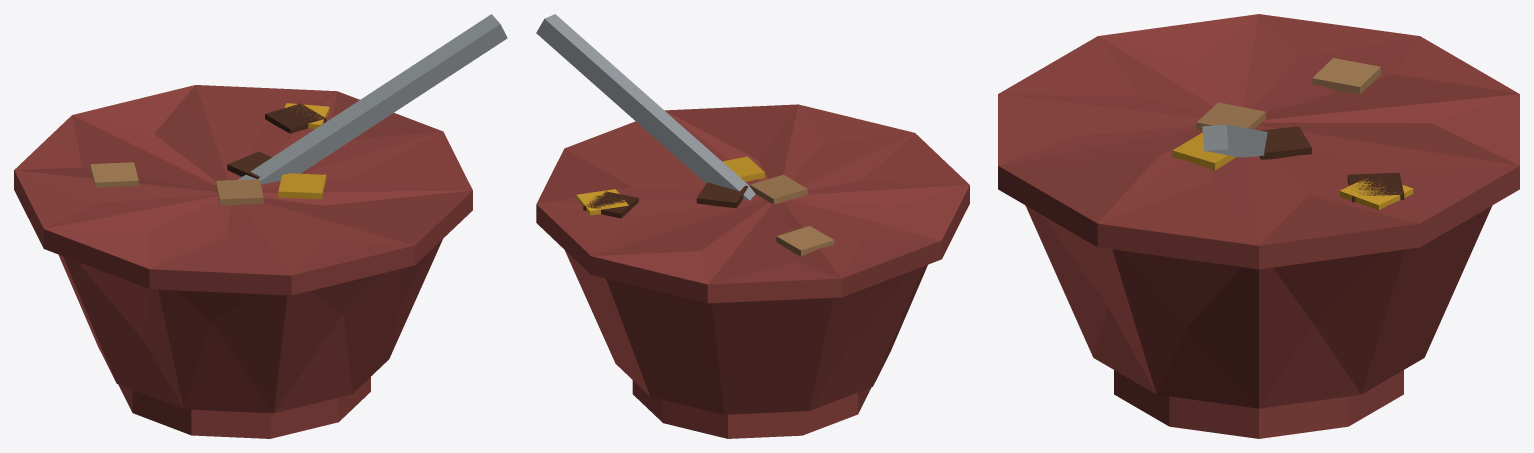
Rendered from meal_soup_myasnoe_ragu_idle.glb.
The picture shows the model from 3 angles, left to right: view 1: azimuth 30°, elevation 25°; view 2: azimuth 150°, elevation 25°; view 3: azimuth 270°, elevation 25°; orthographic projection. The views are drawn at different scales.
Parts seen in each view (by area): view 1: meal_soup_myasnoe_ragu_idle; view 2: meal_soup_myasnoe_ragu_idle; view 3: meal_soup_myasnoe_ragu_idle.
Boxes of the visible parts, box(x1,y1,x2,y2) form: meal_soup_myasnoe_ragu_idle: box(14, 14, 507, 438); meal_soup_myasnoe_ragu_idle: box(536, 14, 969, 438); meal_soup_myasnoe_ragu_idle: box(998, 14, 1519, 438).
Size of the model in its own units: 0.1395 by 0.0979 by 0.1198.
Materials: 1 (1 with a texture image).
